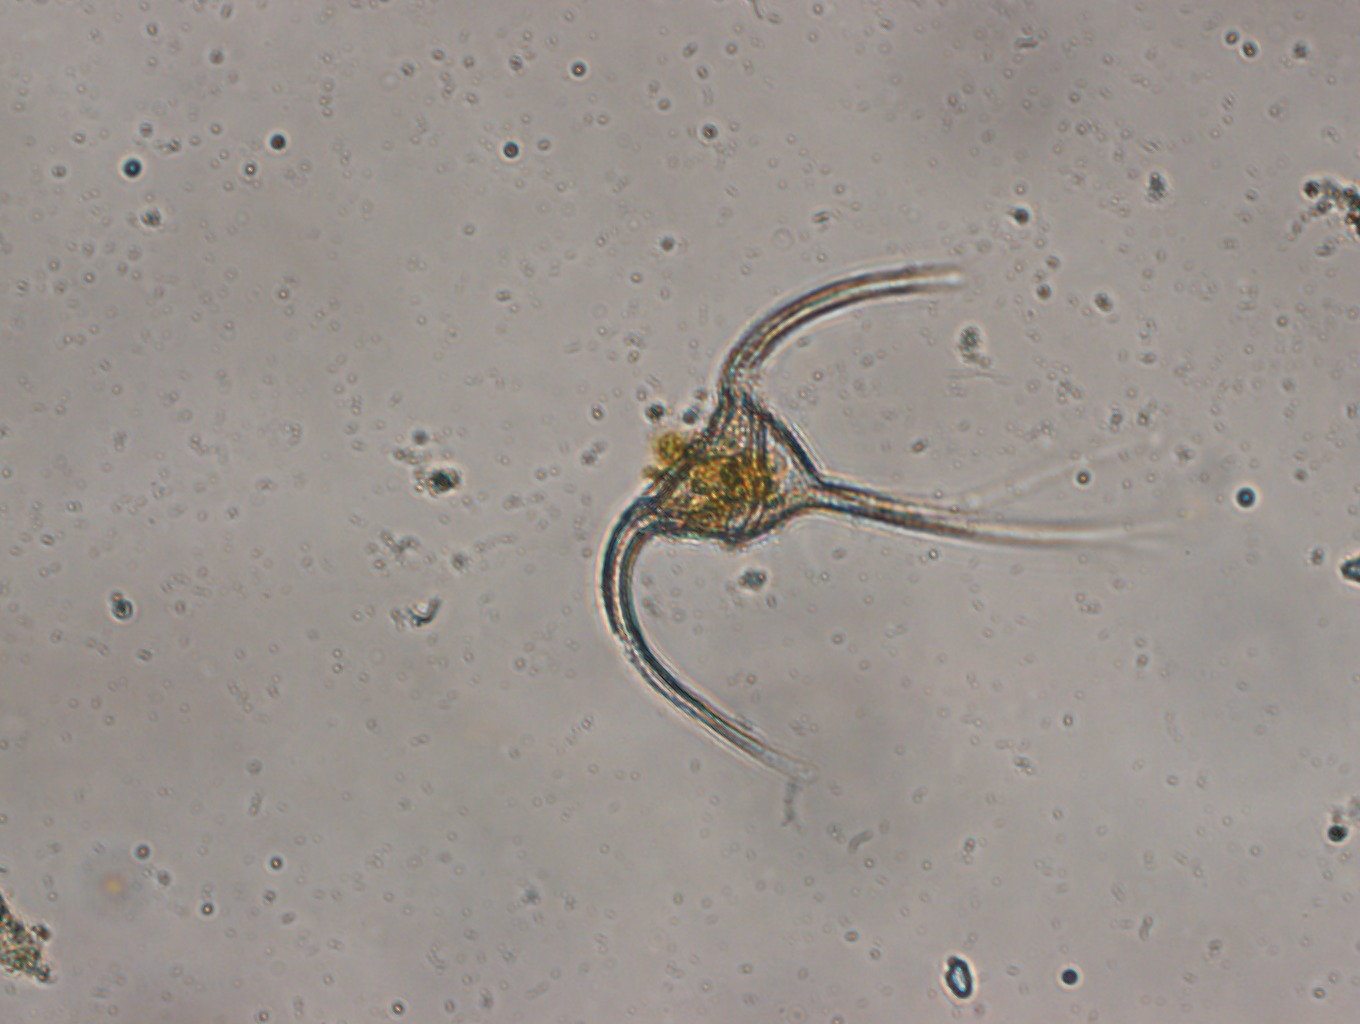ceratium trichoceros: (591, 256, 1150, 787)
